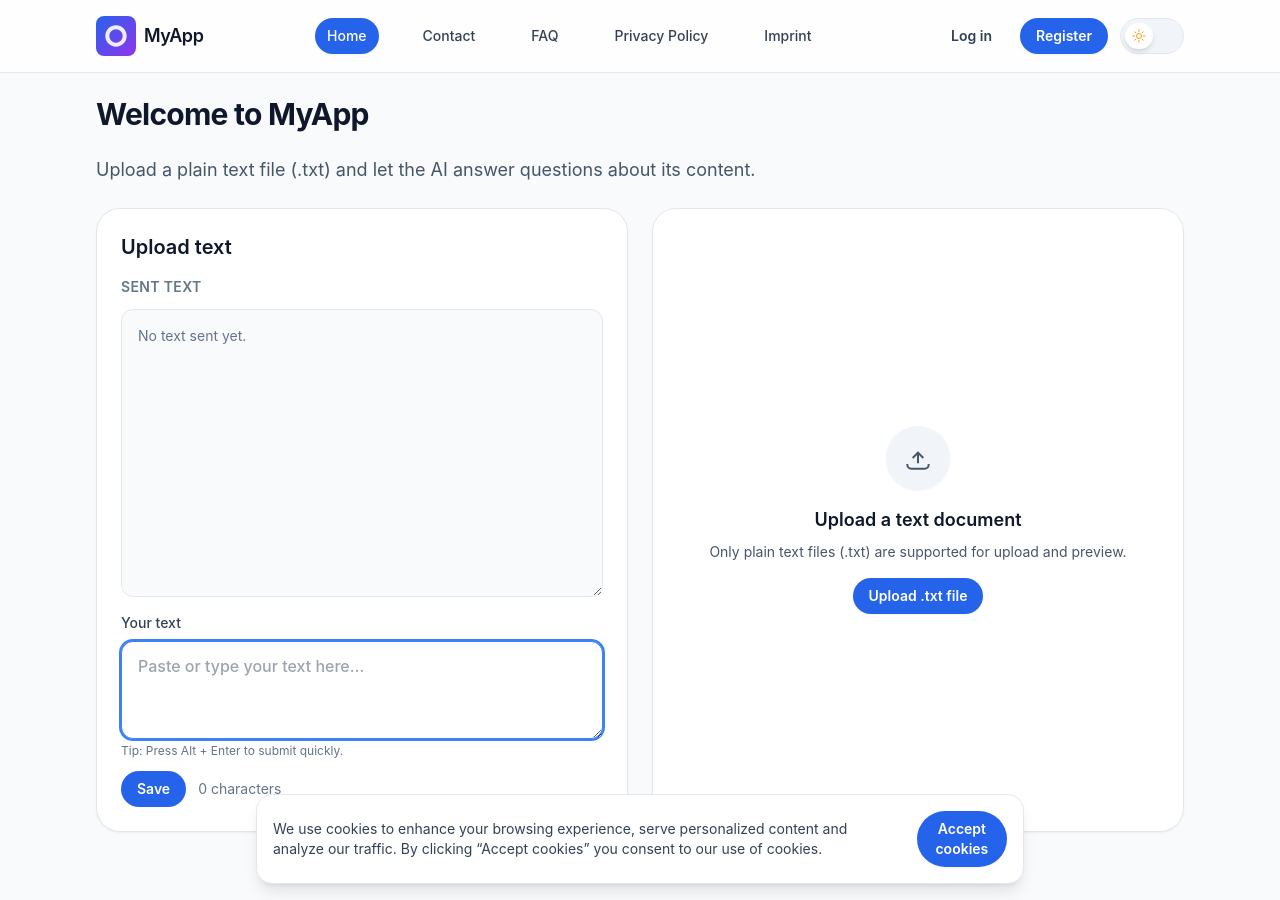
Test: App › navigates to login and register pages from the header
Click the link "Log in" at (972, 36), box [951,27,992,44]
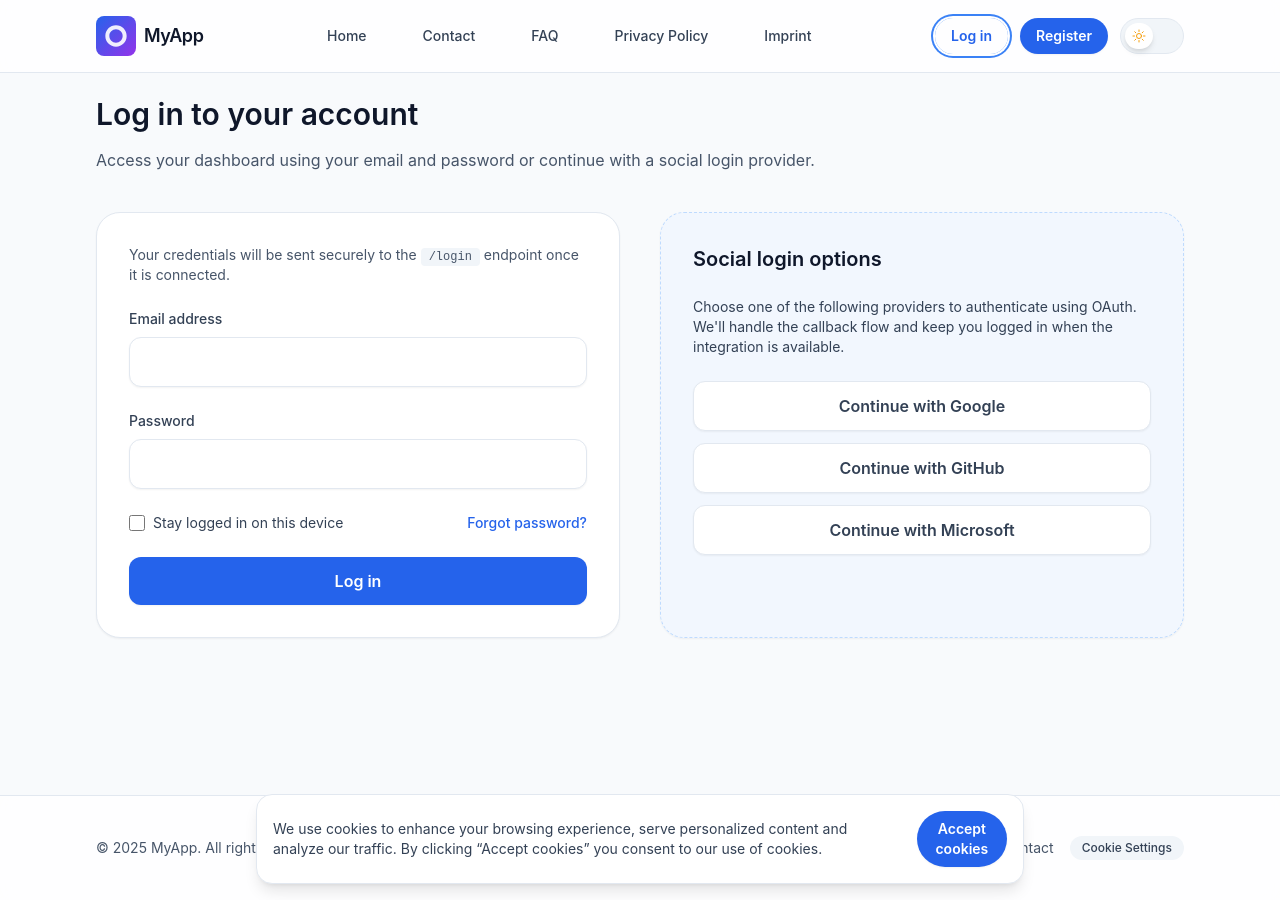
Result: the heading "Log in to your account" is shown at [96,96,418,132]
Result: the checkbox labelled "Stay logged in on this device" is shown at [129,515,145,531]
Click the link "Register" at (1064, 36), box [1020,18,1108,54]
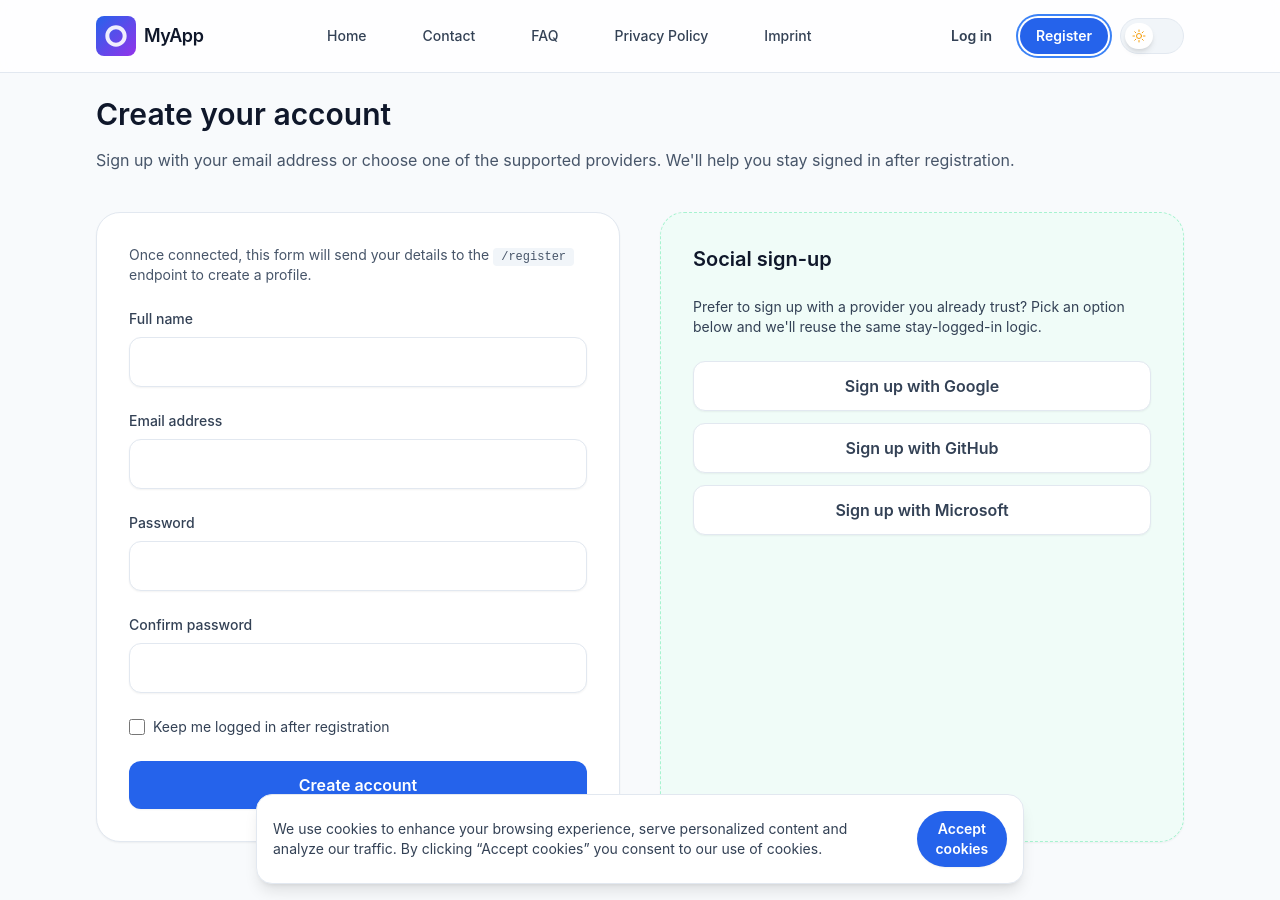
Result: the checkbox labelled "Keep me logged in after registration" is shown at [129,719,145,735]
Result: the heading "Create your account" is shown at [96,96,391,132]
